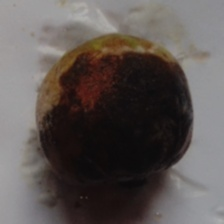guava: (42, 41, 221, 209)
